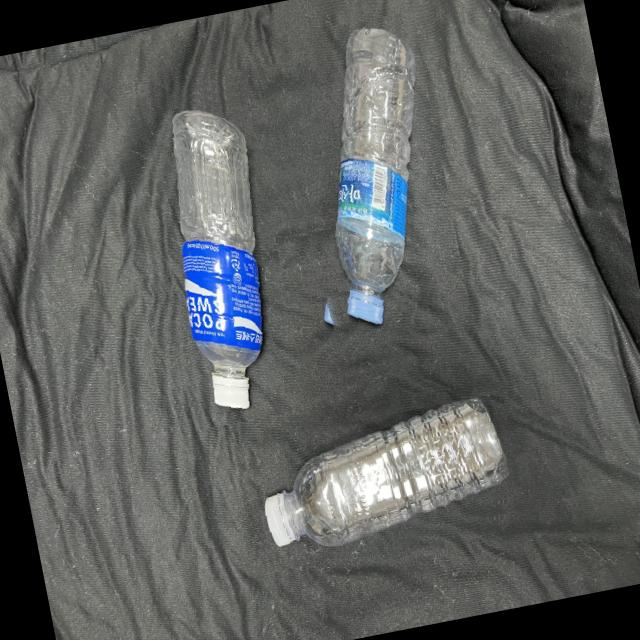plastic bottle: (244, 393, 522, 573), (160, 99, 276, 419), (334, 21, 423, 345)
